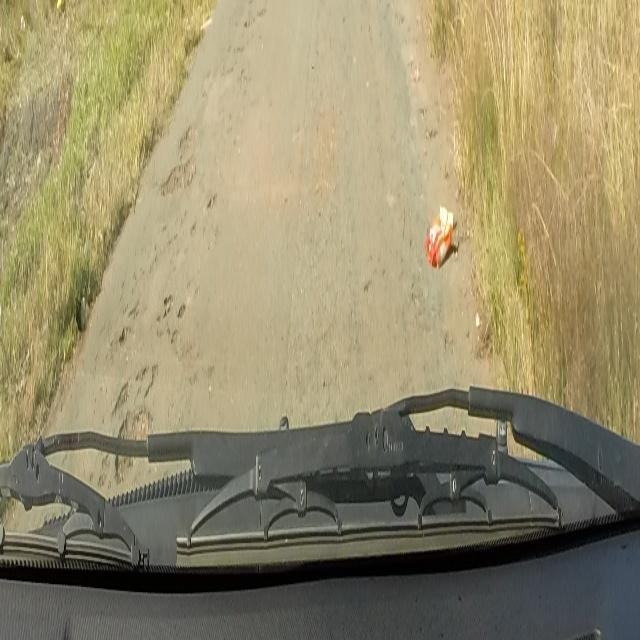pothole: (113, 295, 191, 489), (155, 121, 214, 200), (244, 12, 266, 28)
